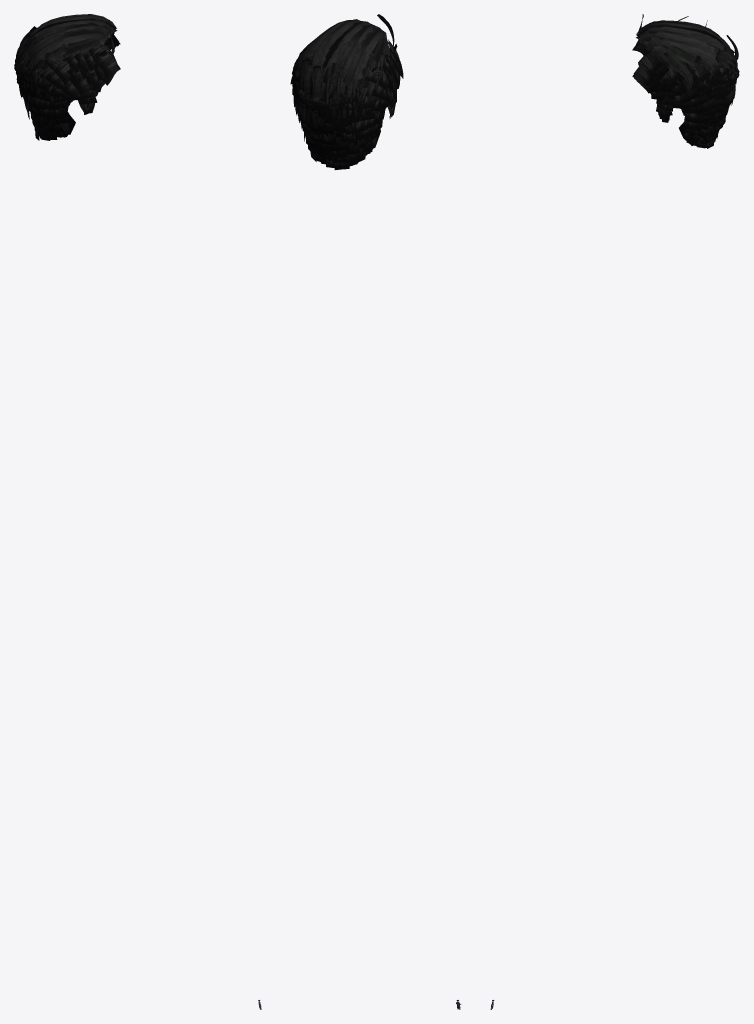
File: seniorsoldier.fbx
The picture shows the model from 3 angles, left to right: view 1: azimuth 90°, elevation 25°; view 2: azimuth 150°, elevation 25°; view 3: azimuth 270°, elevation 25°; orthographic projection. The views are drawn at different scales.
Visible parts, largest first — view 1: NPC_SeniorSoldier_Mesh_0; view 2: NPC_SeniorSoldier_Mesh_0; view 3: NPC_SeniorSoldier_Mesh_0.
Part boxes in pixels (x1,y1,x2,y2): NPC_SeniorSoldier_Mesh_0: (14, 14, 261, 1009); NPC_SeniorSoldier_Mesh_0: (290, 14, 461, 1009); NPC_SeniorSoldier_Mesh_0: (490, 14, 739, 1009).
Bounding box in the file's own units: 1645 × 18100 × 4105.
2 materials, 2 textured.
